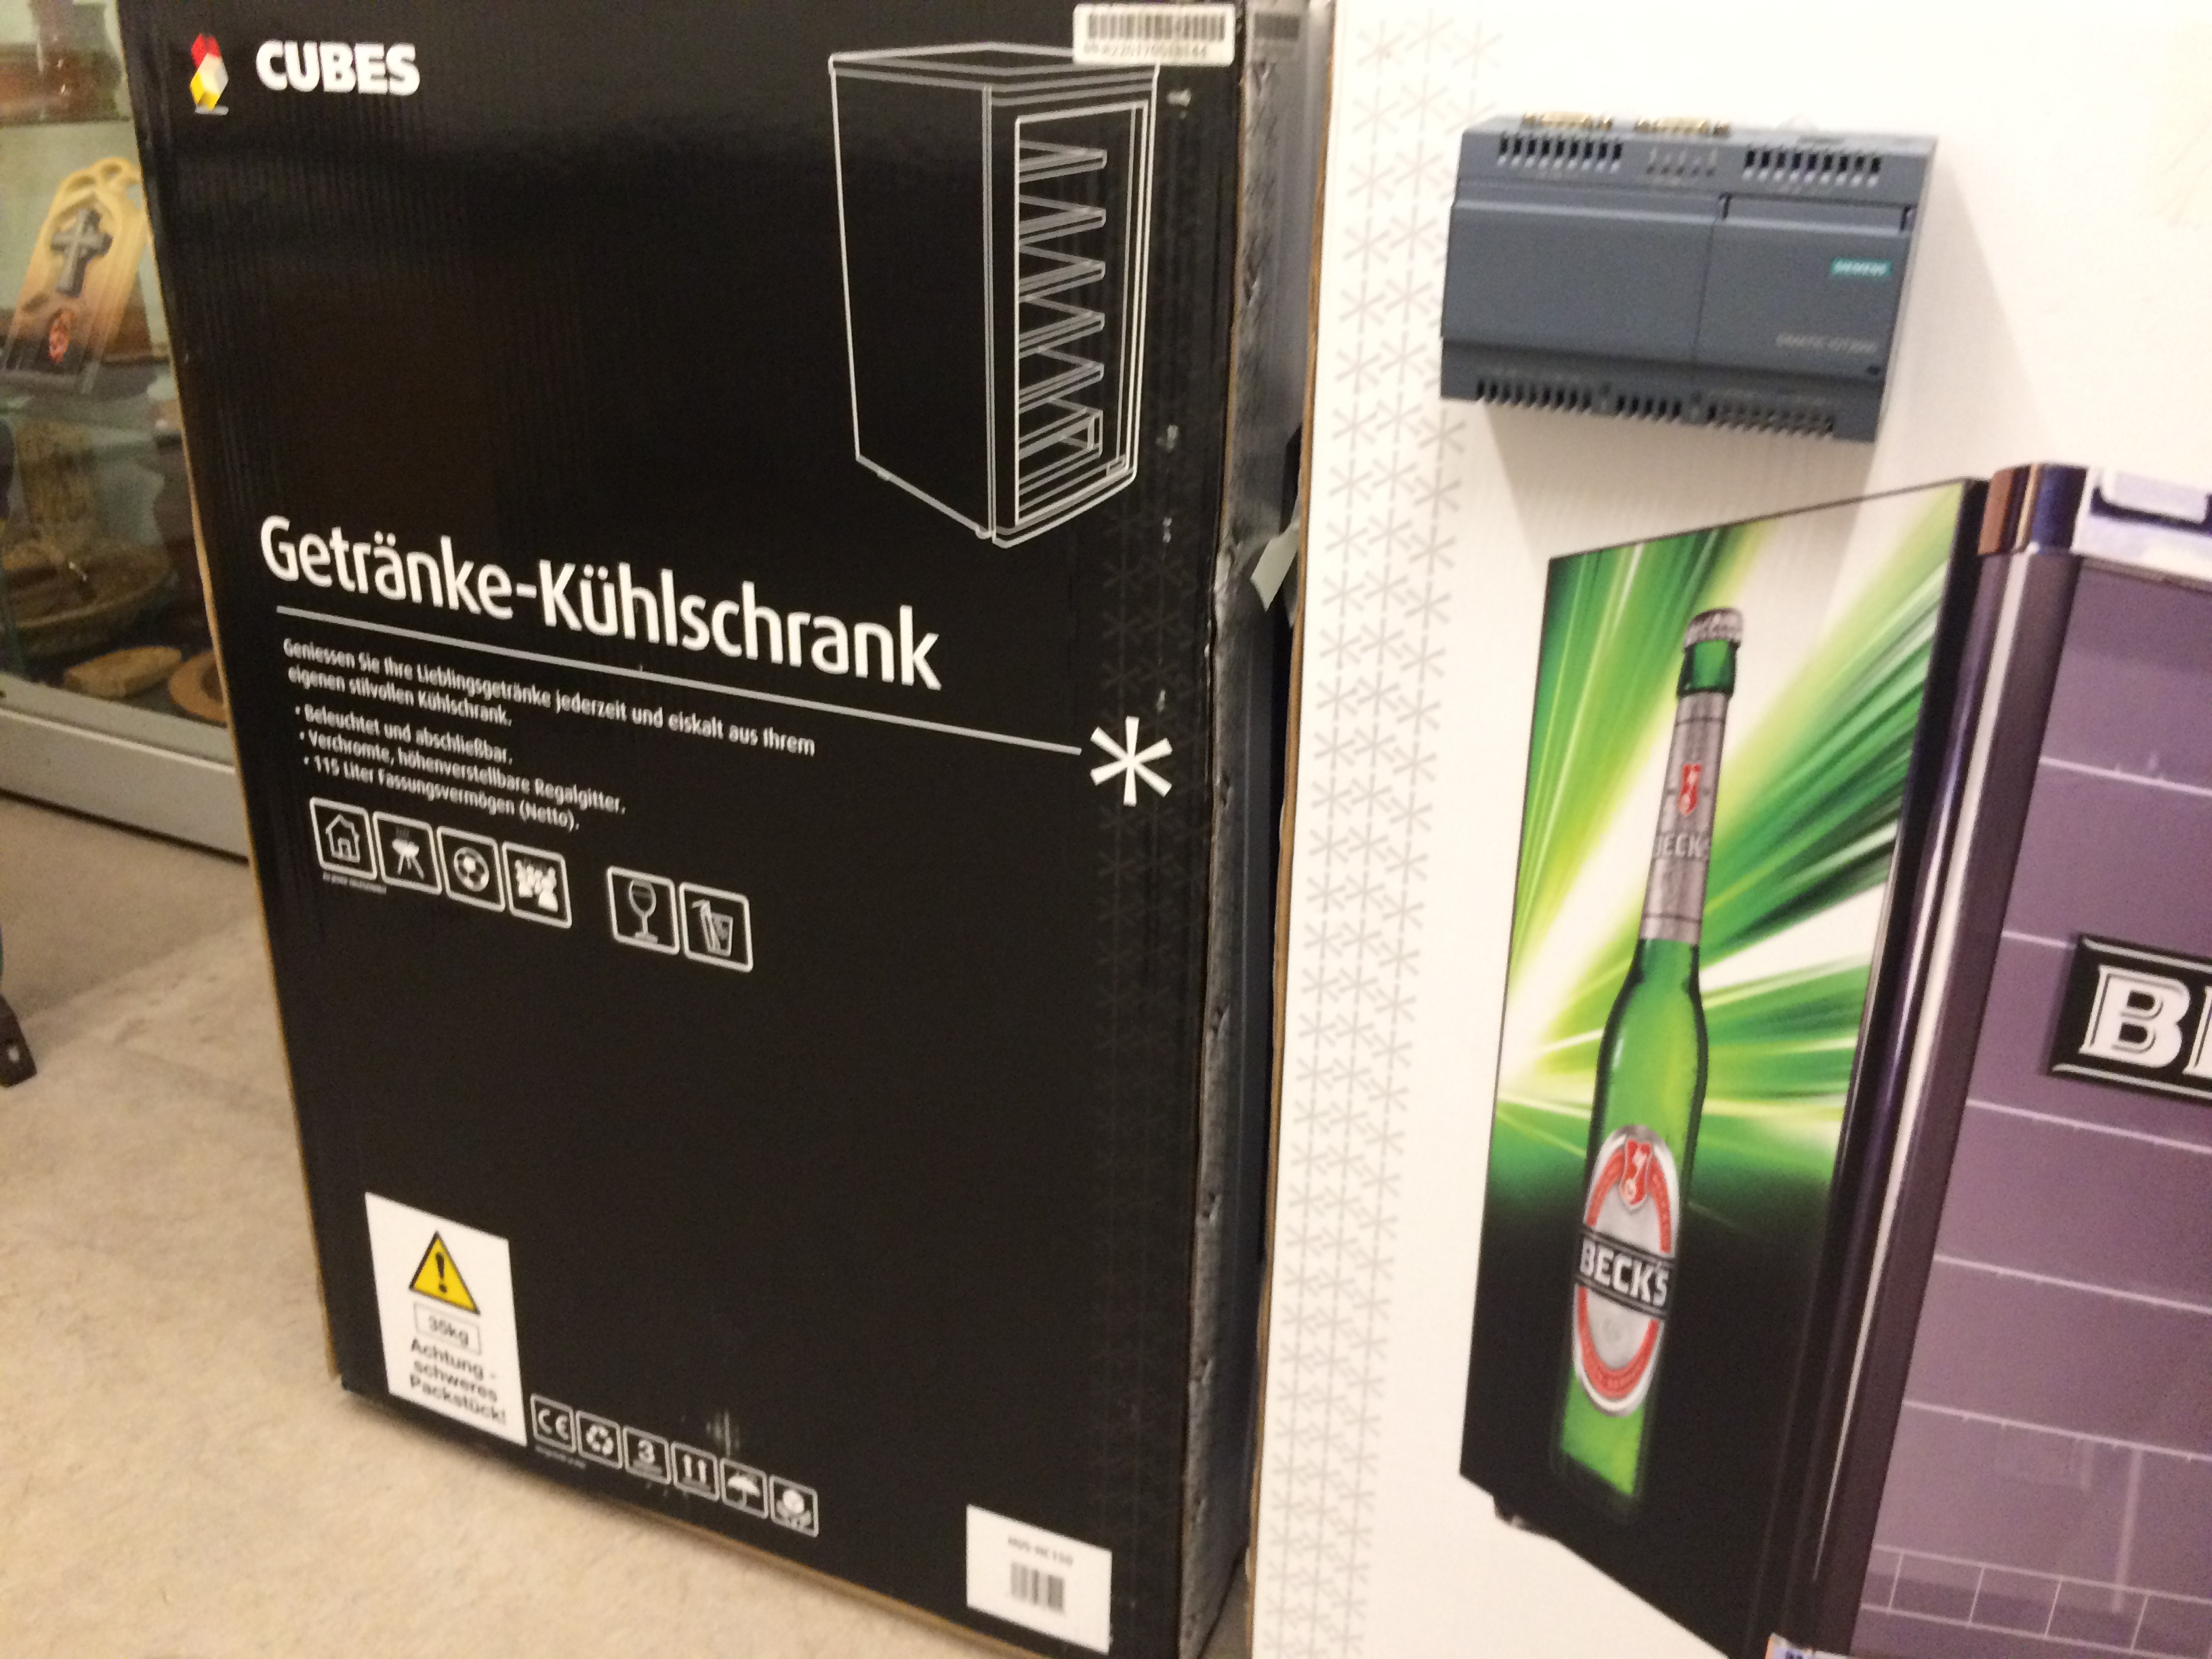iot2000: (1435, 108, 1940, 446)
